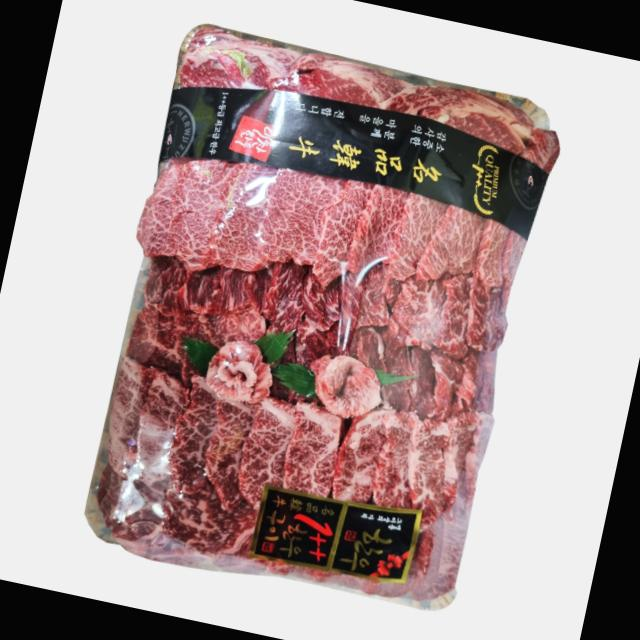beef: (96, 40, 542, 591)
